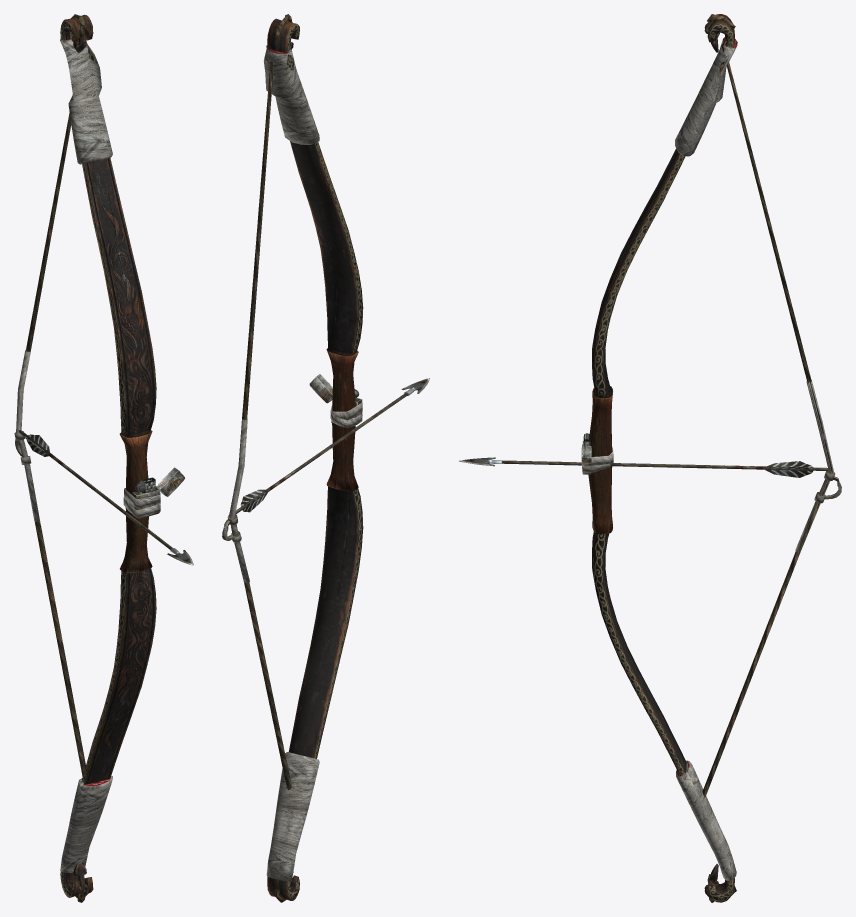
Rendered from bow_01.obj.
3 views of the same model, side by side, from view 1: azimuth 30°, elevation 25°; view 2: azimuth 150°, elevation 25°; view 3: azimuth 270°, elevation 25° (orthographic).
Visible parts, largest first — view 1: bow_01:Mesh, Arrow:Mesh; view 2: bow_01:Mesh, Arrow:Mesh; view 3: bow_01:Mesh, Arrow:Mesh.
Boxes of the visible parts, x1=… form: bow_01:Mesh: x1=14, y1=14, x2=184, y2=902; Arrow:Mesh: x1=18, y1=430, x2=193, y2=565; bow_01:Mesh: x1=222, y1=14, x2=363, y2=902; Arrow:Mesh: x1=235, y1=378, x2=429, y2=514; bow_01:Mesh: x1=581, y1=14, x2=841, y2=902; Arrow:Mesh: x1=459, y1=457, x2=828, y2=477.
Size of the model in its own units: 0.1794 by 2.45 by 0.9594.
3 materials, 3 textured.
